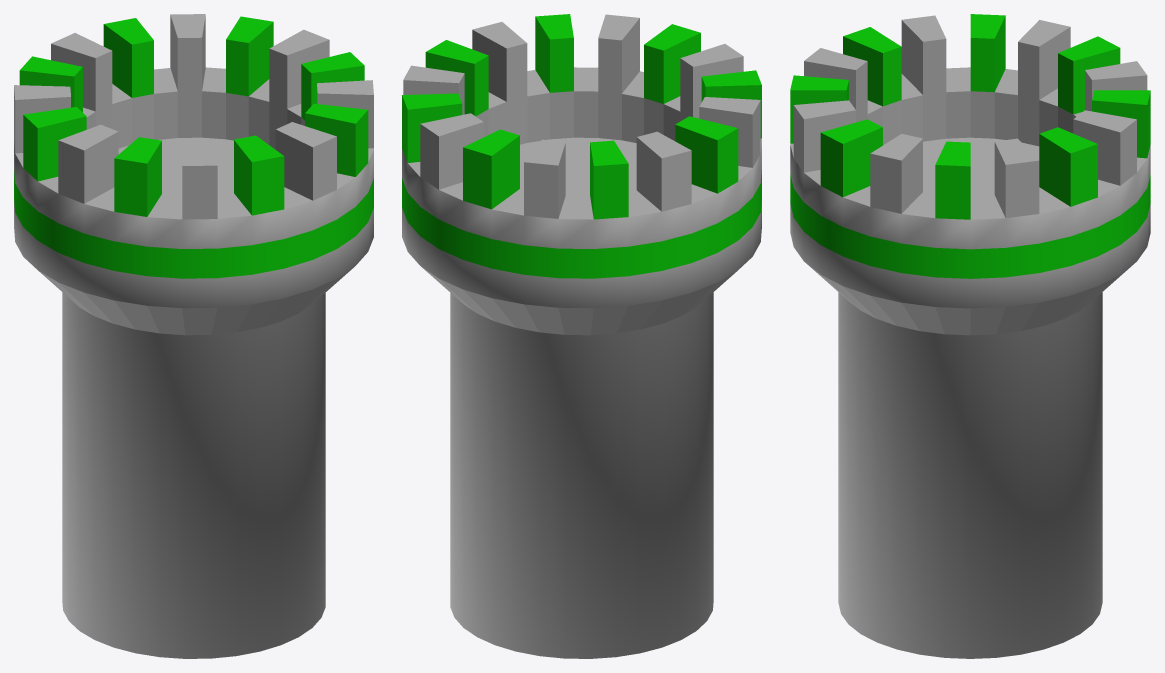
The model's file is Tower.fbx.
3 renders of one model, left to right at view 1: azimuth 30°, elevation 25°; view 2: azimuth 150°, elevation 25°; view 3: azimuth 270°, elevation 25°, orthographic.
Visible parts, largest first — view 1: Cylinder; view 2: Cylinder; view 3: Cylinder.
Part boxes in pixels (x1,y1,x2,y2): Cylinder: [14, 14, 373, 658]; Cylinder: [402, 14, 761, 658]; Cylinder: [790, 14, 1150, 658].
Size of the model in its own units: 81.95 by 129 by 81.95.
